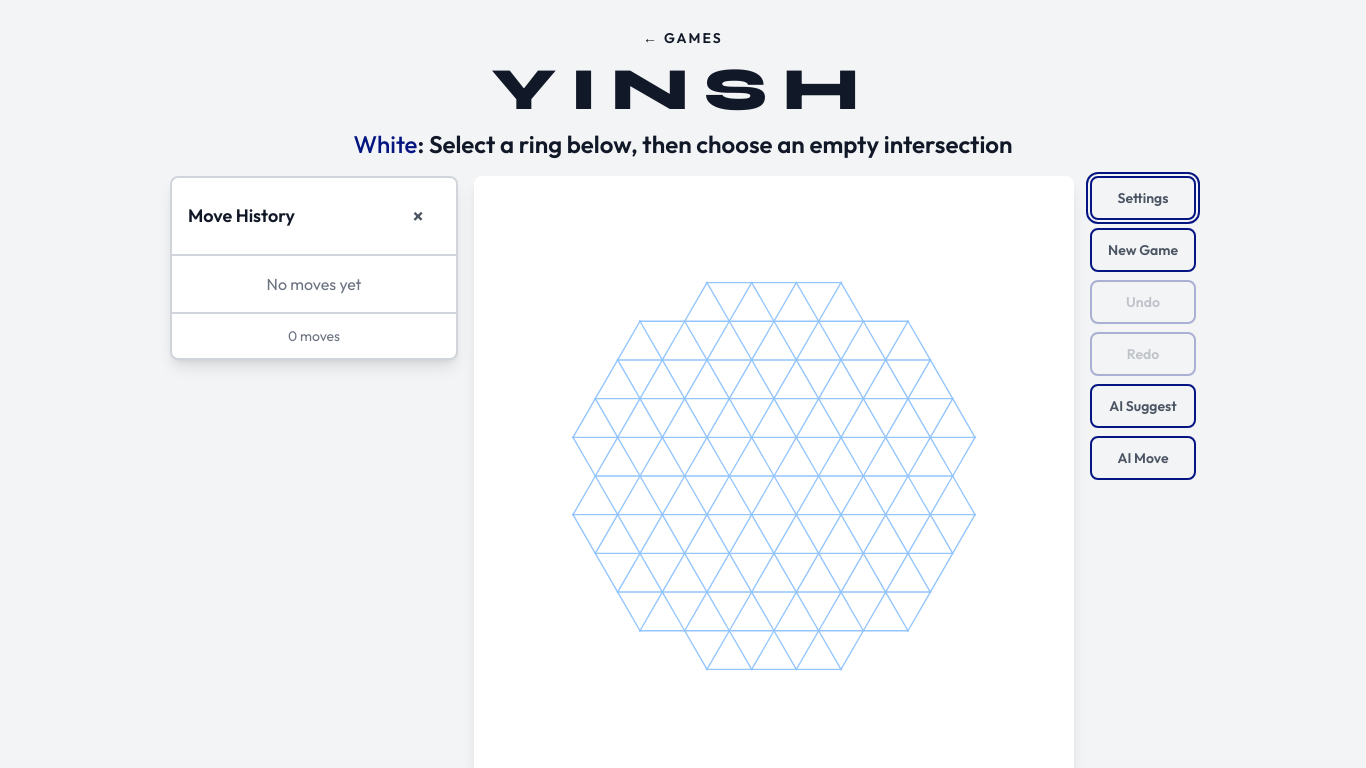
the settings drawer is a modal dialog with focus management
Click the button "Settings" at (1143, 198), box [1090,176,1196,220]
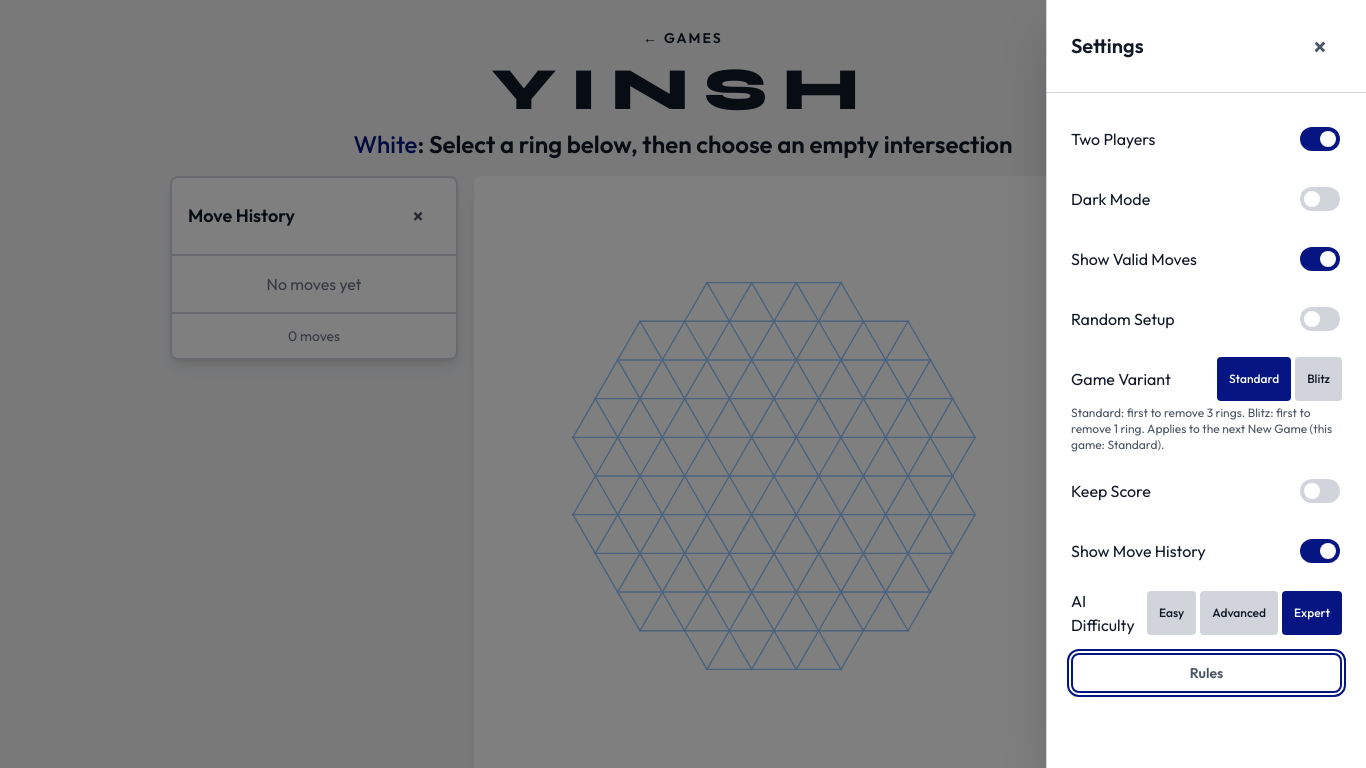
Press Tab in the button "Rules", box [1071,653,1342,693]
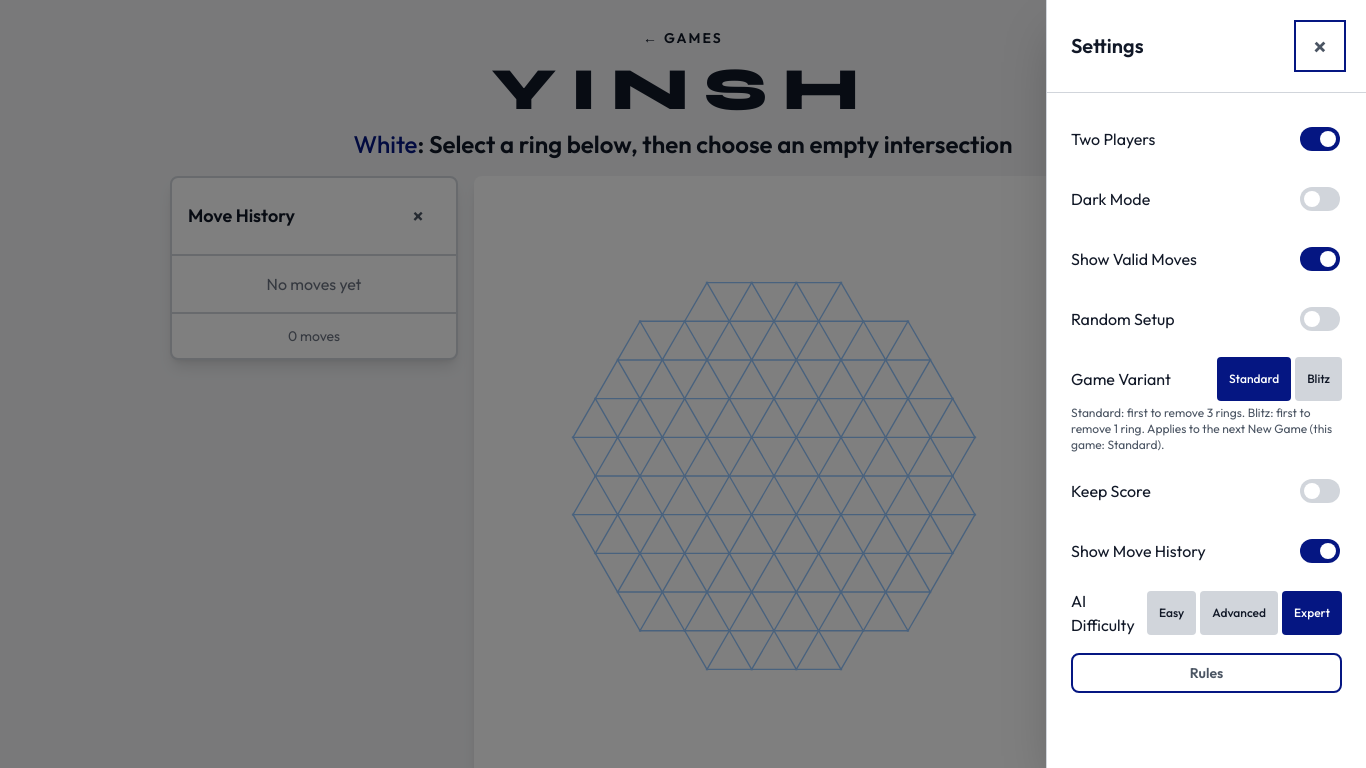
Press Escape in the button "×", box [1298,24,1342,68]
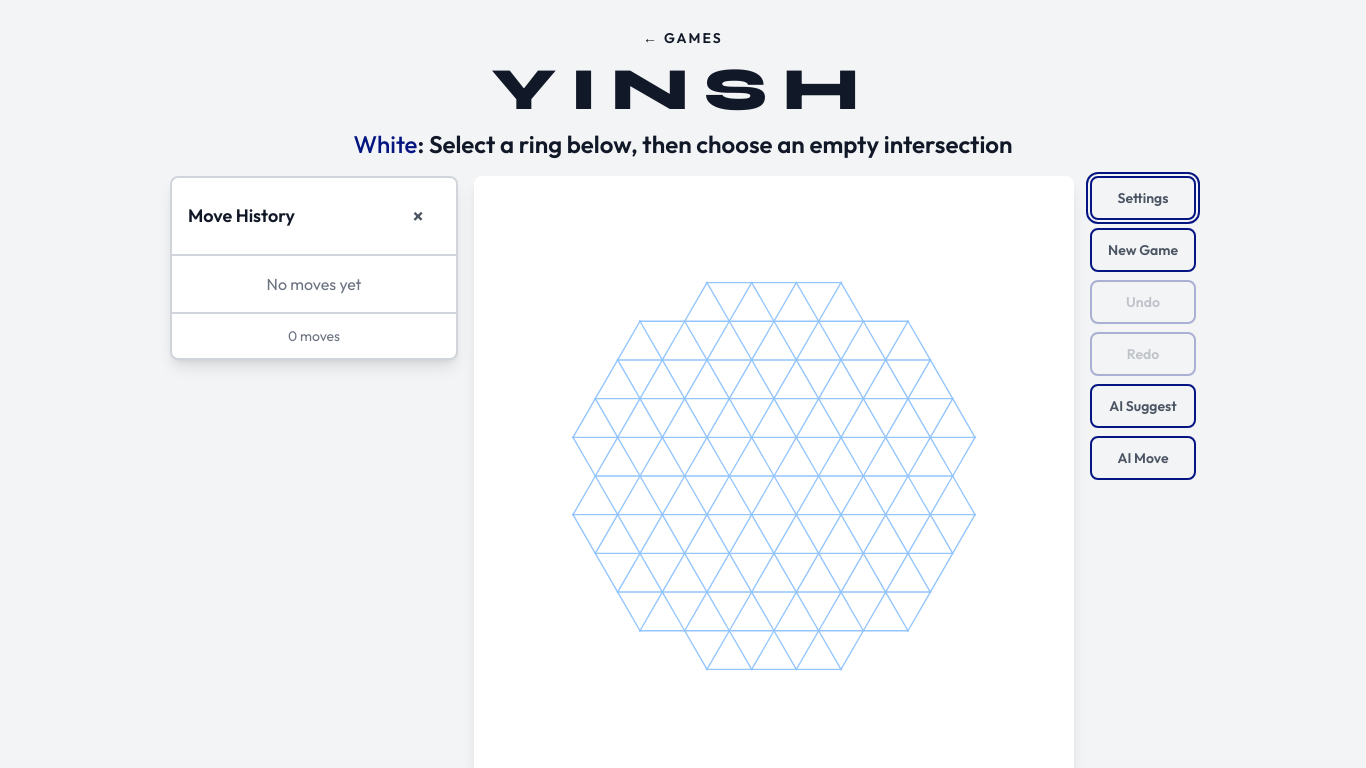
expect the dialog is gone: met
